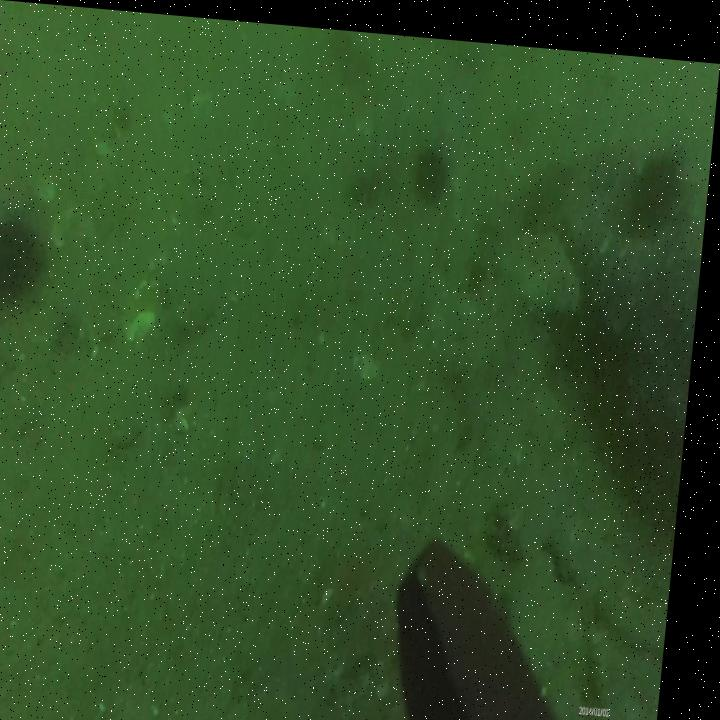echinus: (0, 194, 58, 318), (635, 127, 690, 221), (415, 137, 453, 196)
